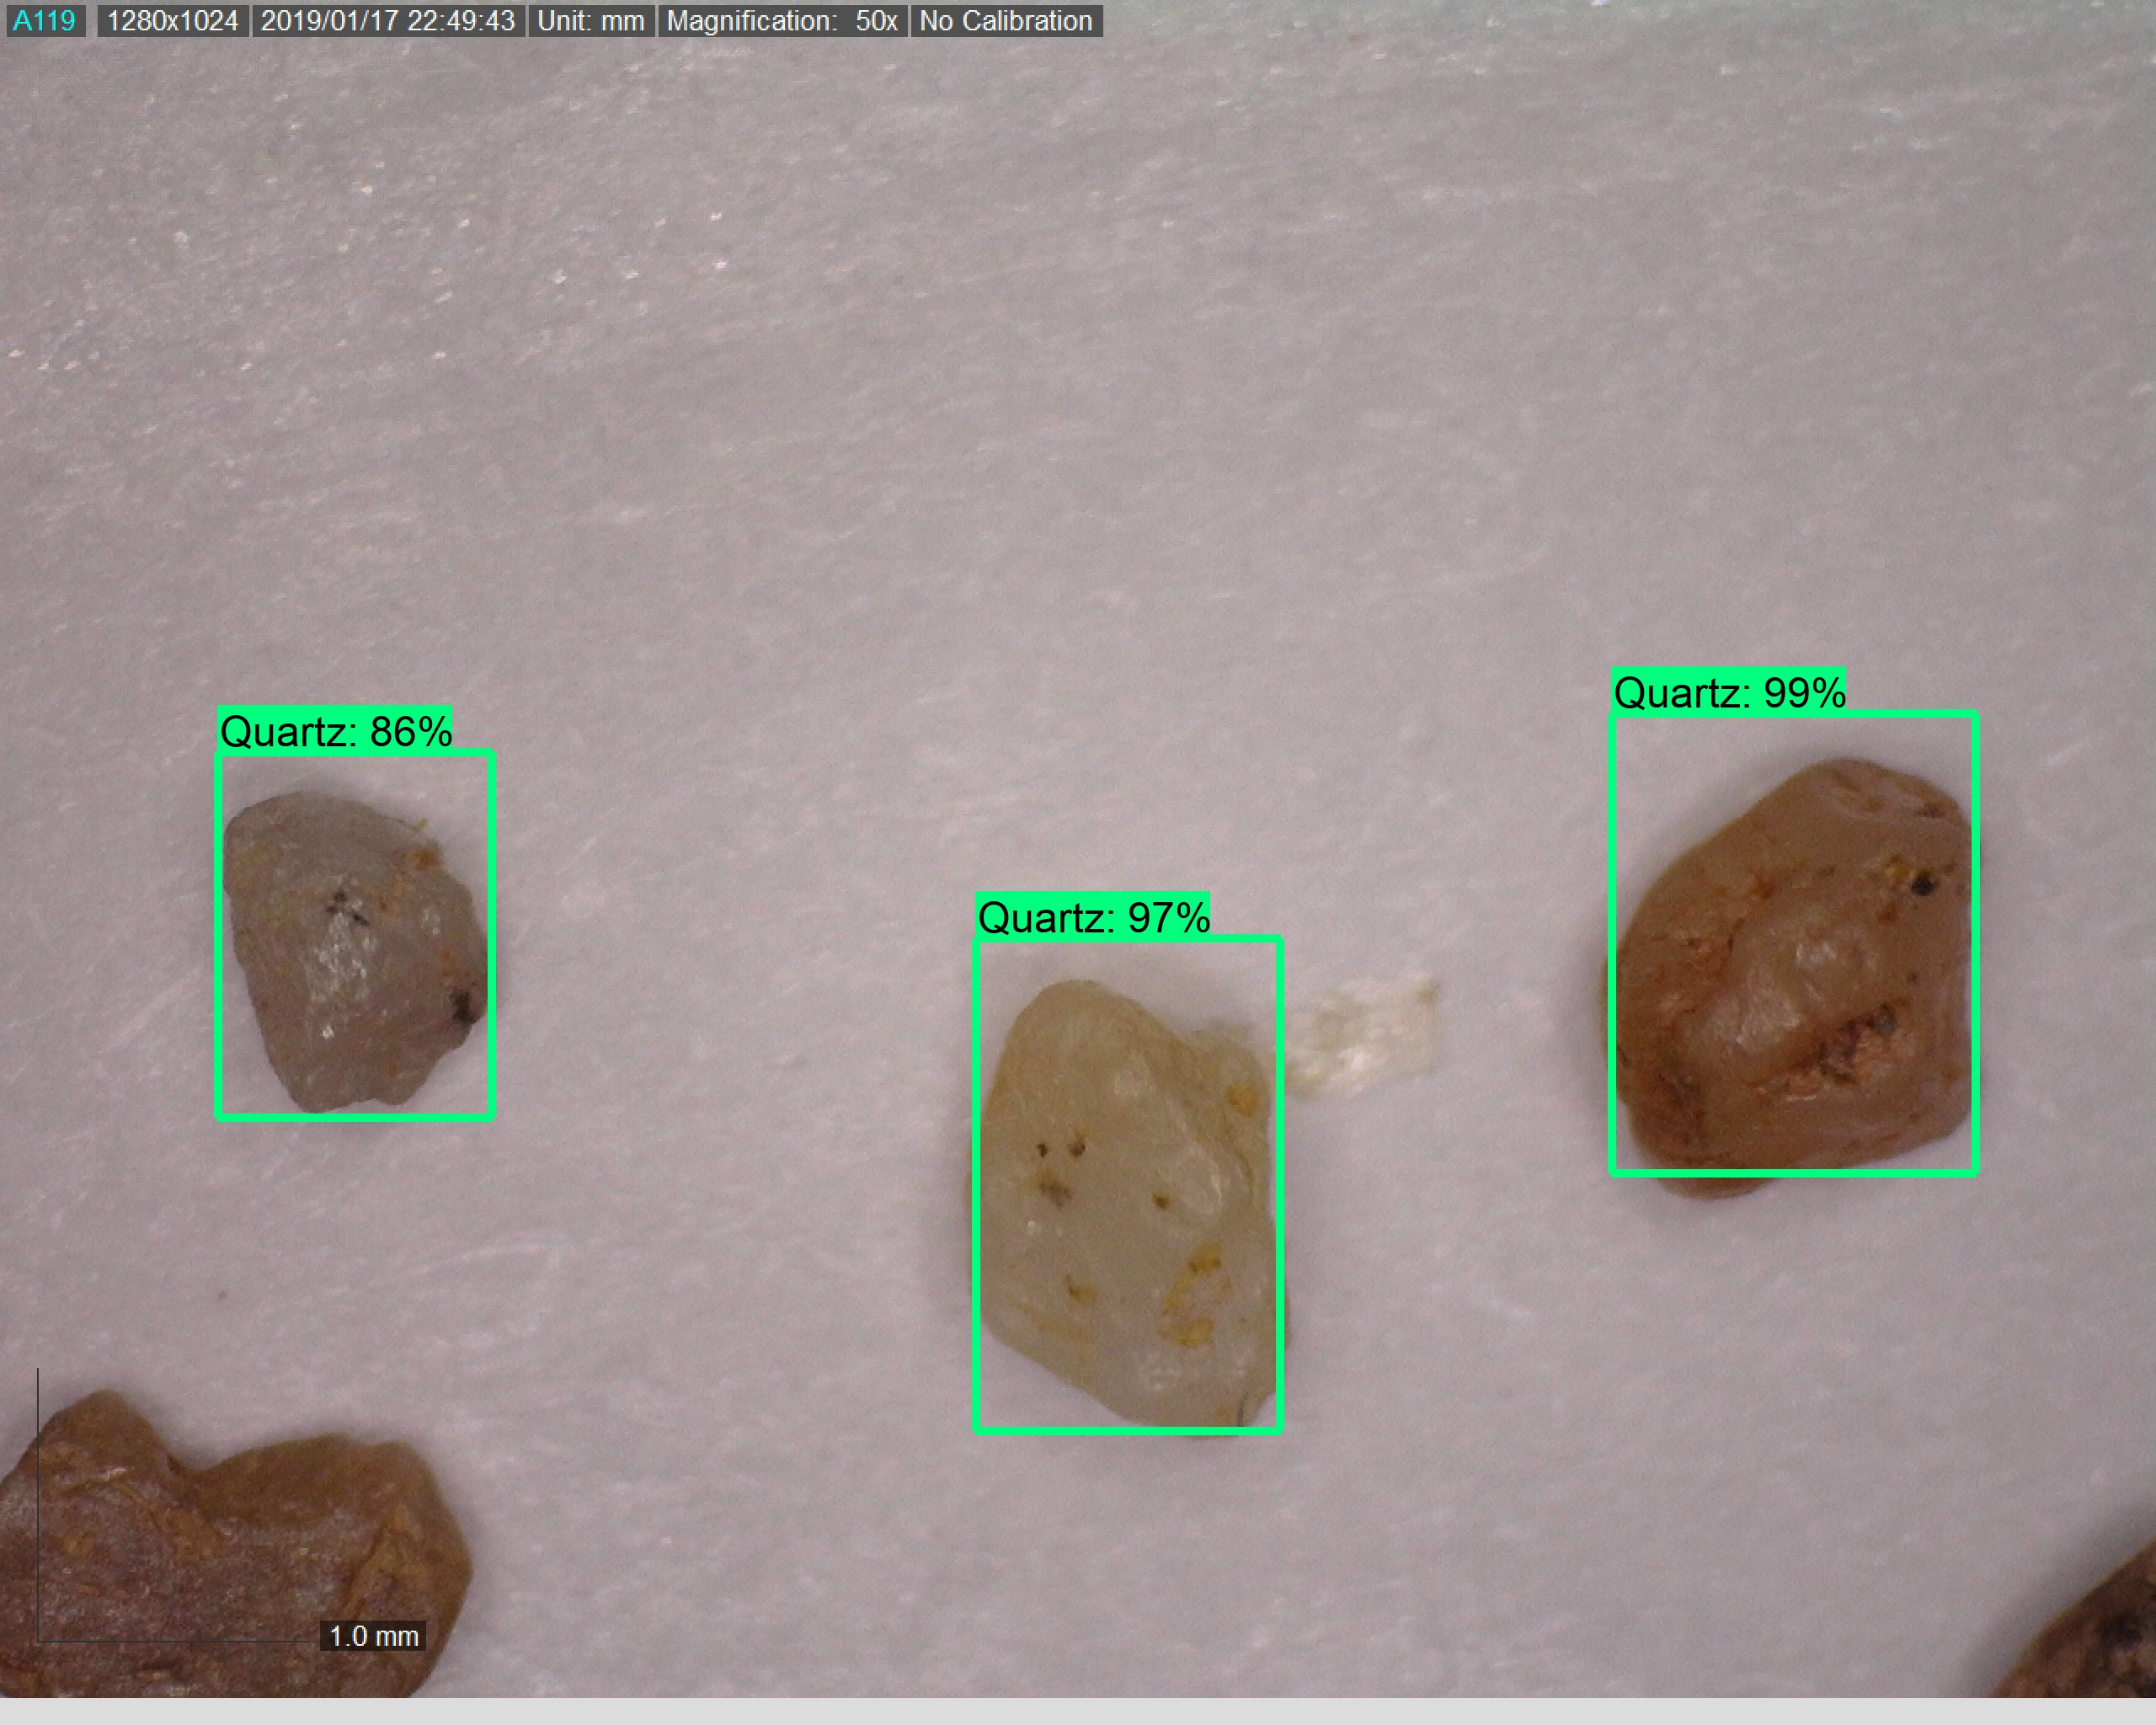Quartz: (1588, 750, 1992, 1206), (957, 972, 1316, 1450), (208, 774, 526, 1127)
